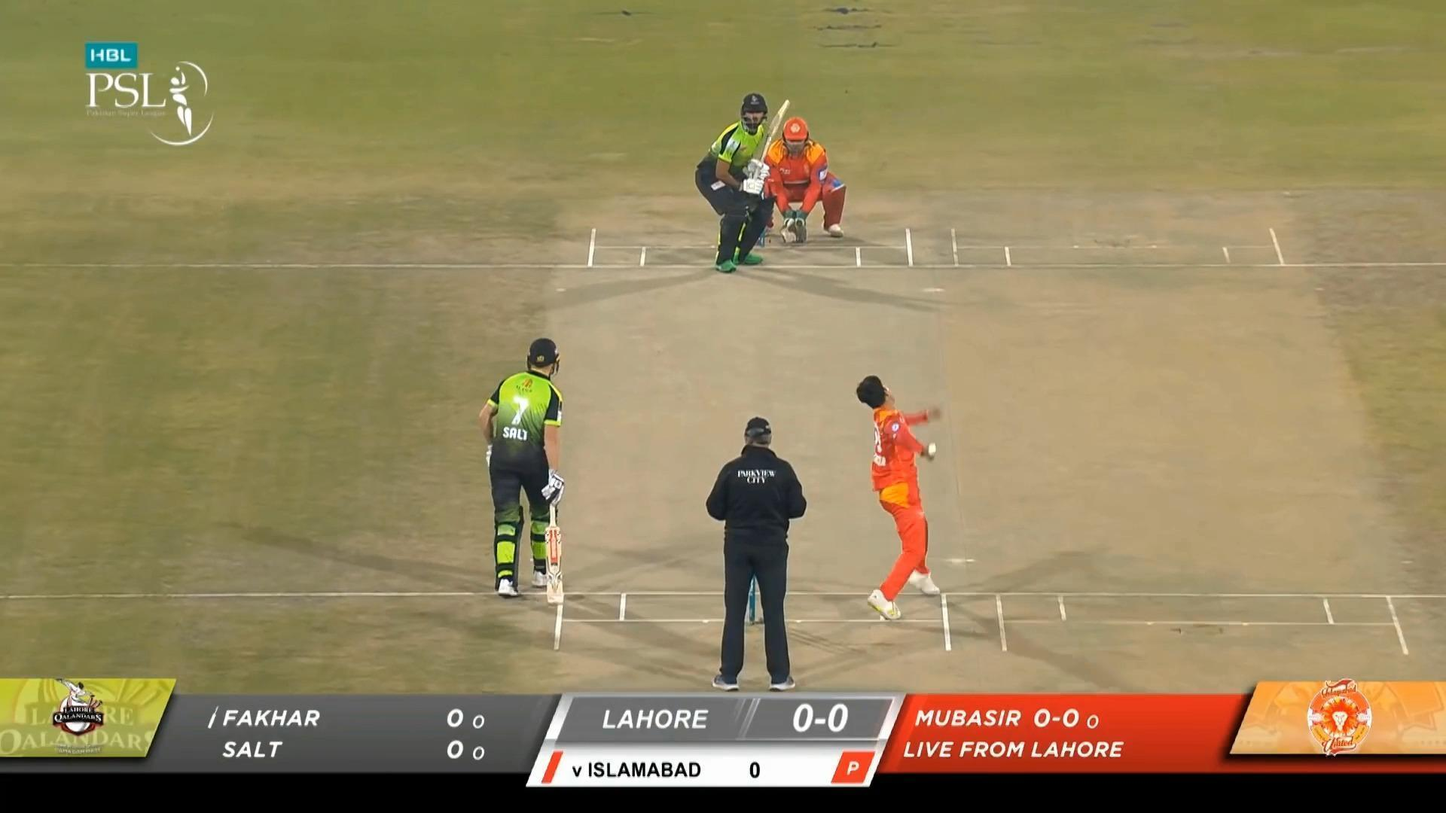BM 1: (695, 93, 791, 274)
BO: (856, 370, 946, 620)
